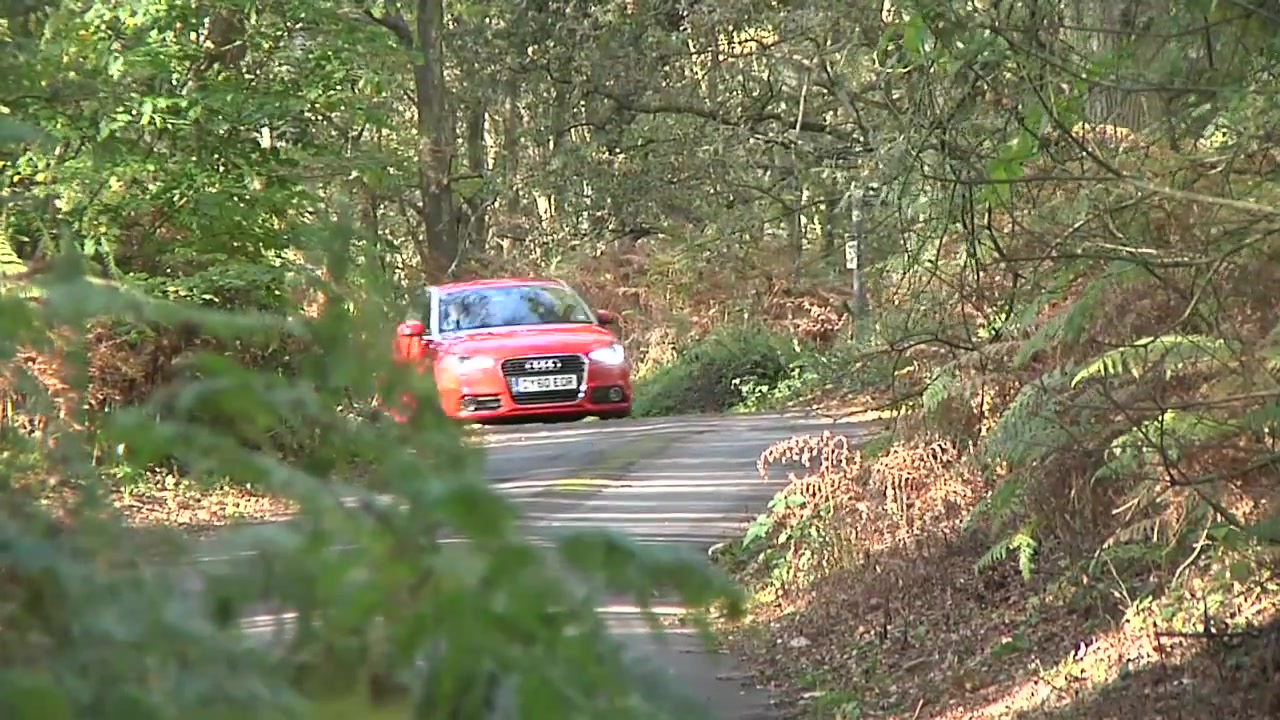car: (380, 278, 639, 426)
